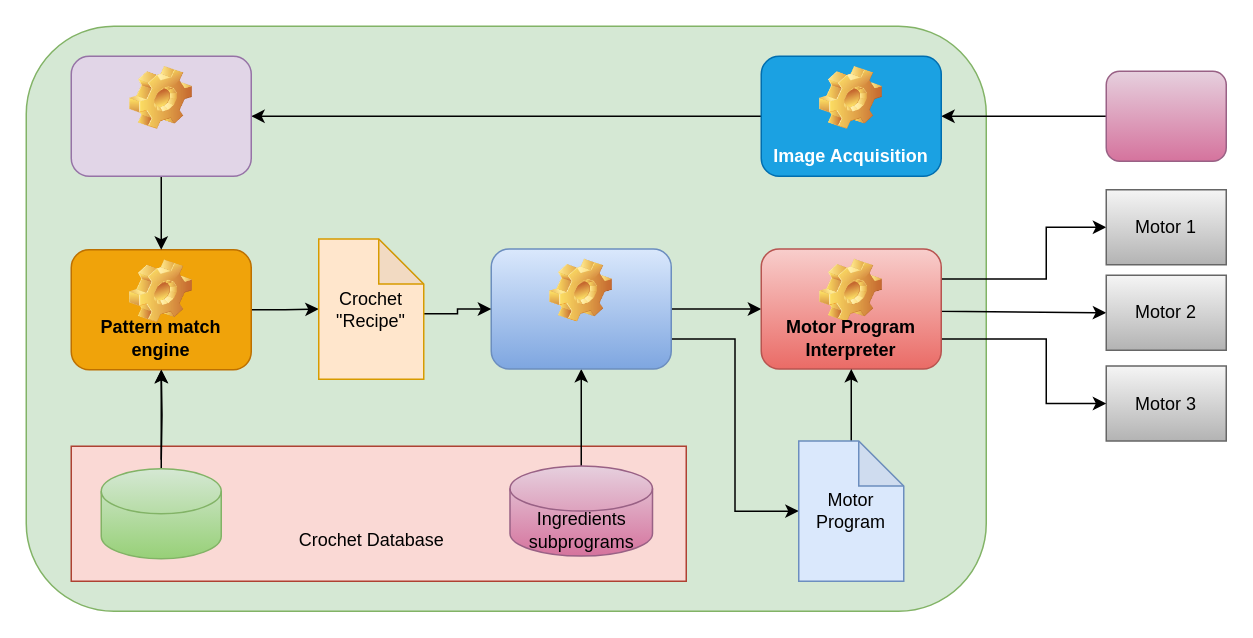
This 1253x638 diagram has some shape labels left out. The shapes that lost their labels are listed below. From the top down, each one's centre as x and y in pixels, then its label:
point 160,115: Image Processing
point 1165,115: Camera
point 580,308: Translation engine
point 160,513: Ingredients features
